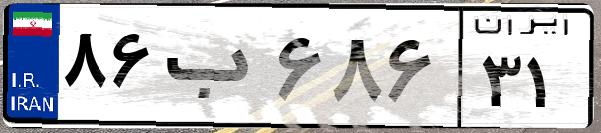1: (525, 38, 570, 115)
3: (475, 38, 525, 113)
6: (270, 28, 330, 110), (385, 28, 445, 110), (110, 28, 158, 98)
8: (330, 28, 385, 110), (57, 26, 110, 100)
ب: (158, 20, 270, 120)
